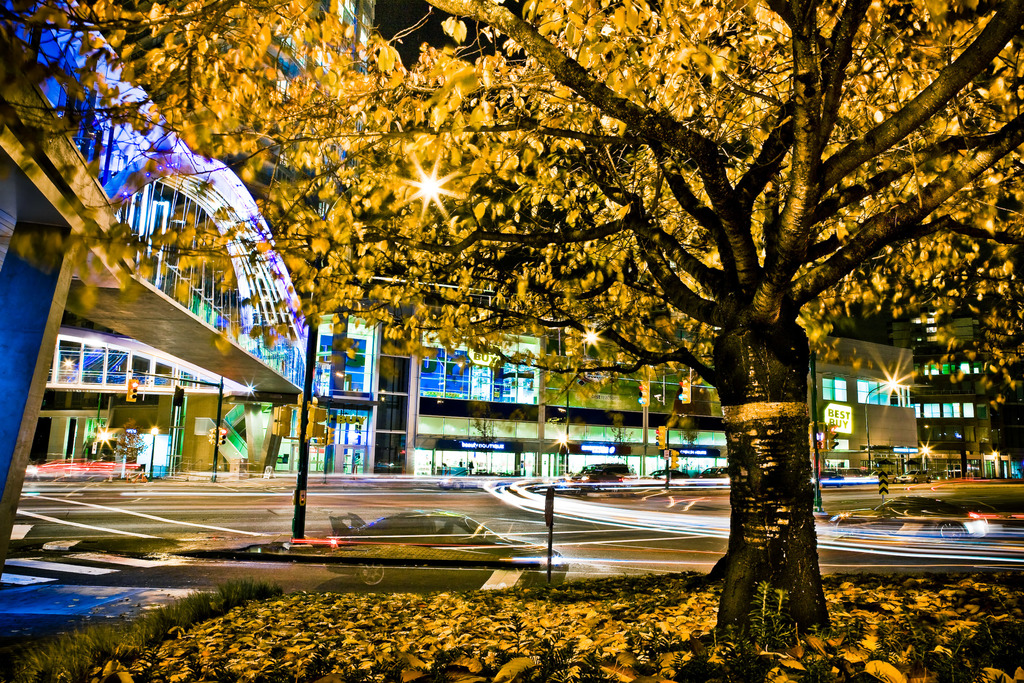Tree: (154, 0, 993, 591)
